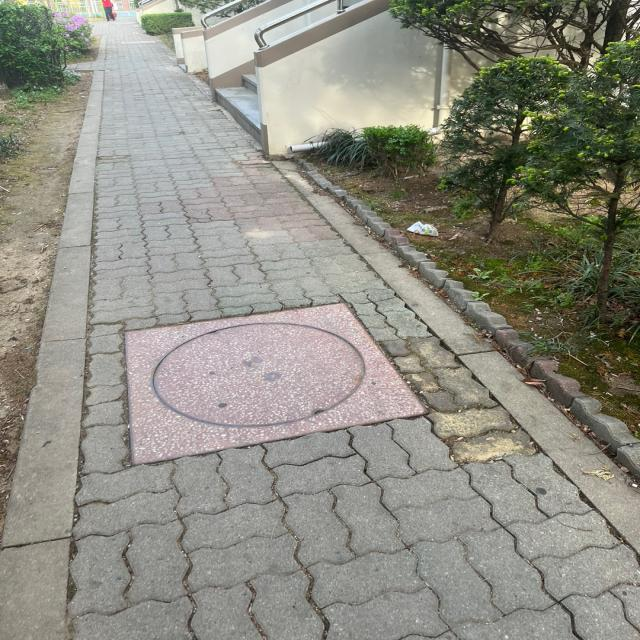manhole: (122, 302, 427, 467)
